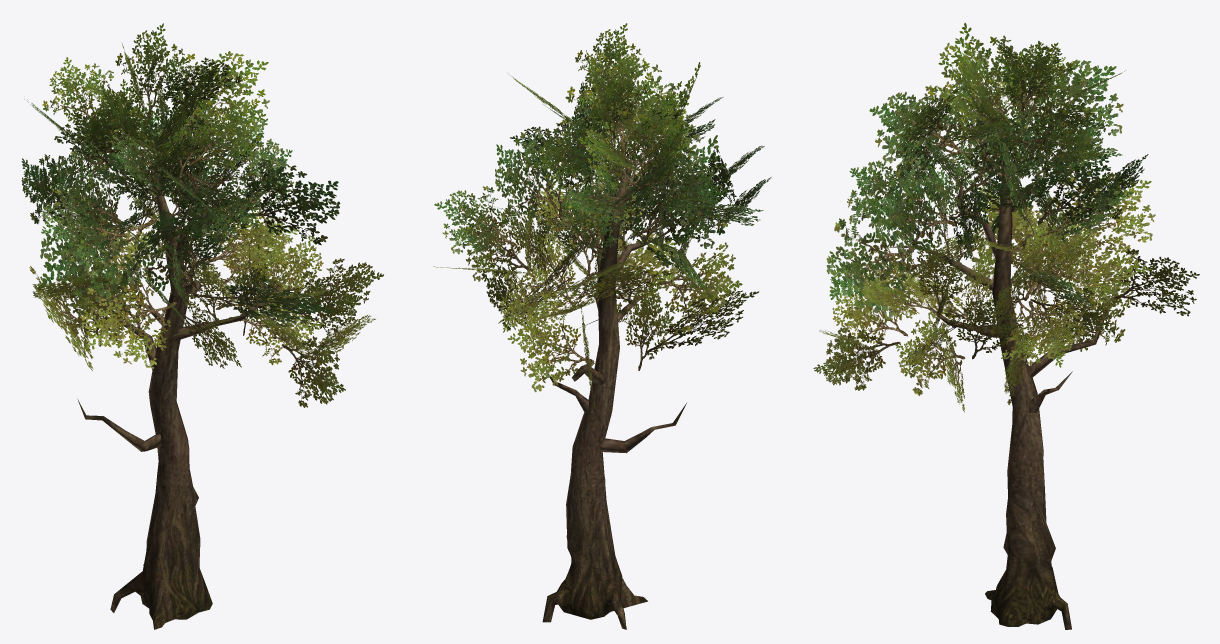
The model's file is d_sd_shu02c_zw.FBX.
3 views of the same model, side by side, from view 1: azimuth 30°, elevation 25°; view 2: azimuth 150°, elevation 25°; view 3: azimuth 270°, elevation 25° (orthographic). The views are drawn at different scales.
Visible parts, largest first — view 1: d_sd_shu02c_zw_B01, d_sd_shu02c_zw_A; view 2: d_sd_shu02c_zw_B01, d_sd_shu02c_zw_A; view 3: d_sd_shu02c_zw_B01, d_sd_shu02c_zw_A.
Part boxes in pixels (x1,y1,x2,y2): d_sd_shu02c_zw_B01: (21,23,383,407); d_sd_shu02c_zw_A: (77,160,281,629); d_sd_shu02c_zw_B01: (433,23,771,410); d_sd_shu02c_zw_A: (542,164,686,629); d_sd_shu02c_zw_B01: (813,23,1199,412); d_sd_shu02c_zw_A: (889,146,1106,629).
Size of the model in its own units: 716 by 1185 by 736.
